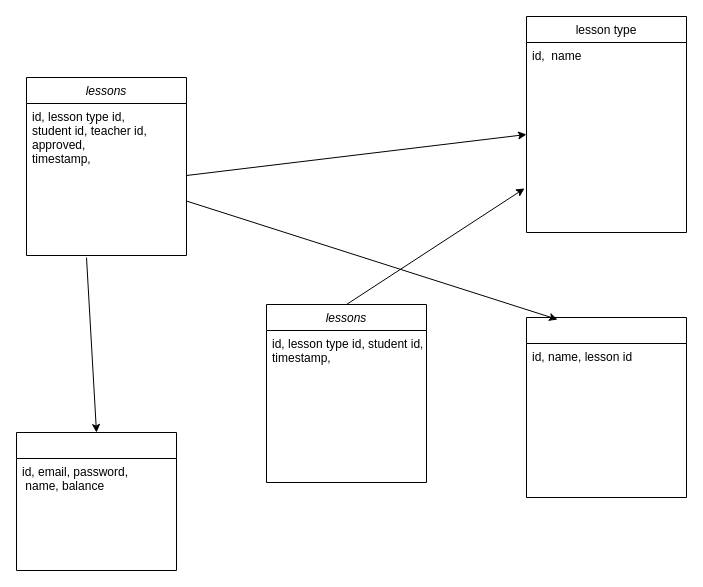
Image size: 703x587. Some labels were removed from this diagram. Here are the shapes that lost their labels. From the top down, the box of each, then its label:
(526, 316, 686, 498): Teacher
(16, 432, 176, 570): Student
